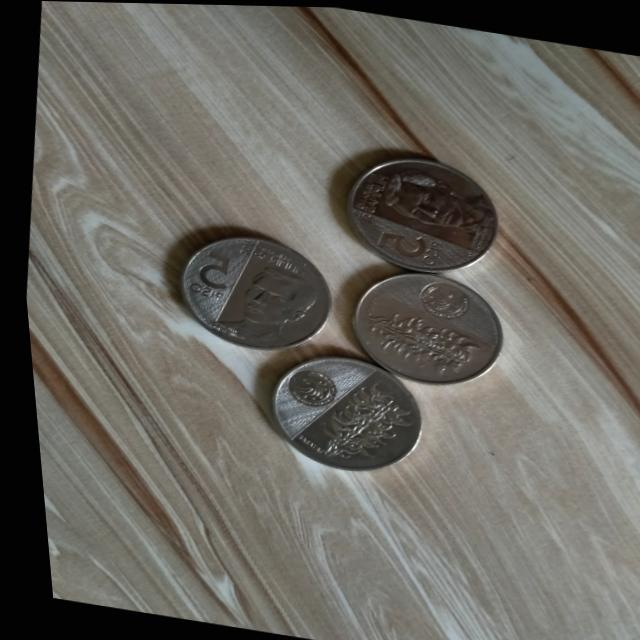5_New_Back: (294, 364, 413, 470), (337, 306, 487, 386)
5_New_Front: (168, 234, 243, 313), (364, 216, 454, 276)
